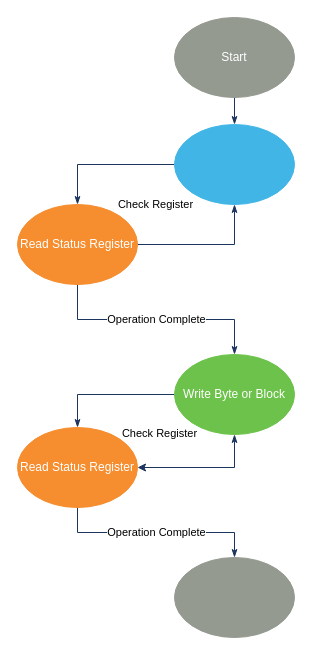
The diagram is 312 pixels wide and 655 high, and some of its shapes have lost their labels. The shapes that lost their labels are listed below. From the top down, each one's centre as x and y in pixels, then its label:
At [234,164]: "Write Enable".
At [234,597]: "End".
